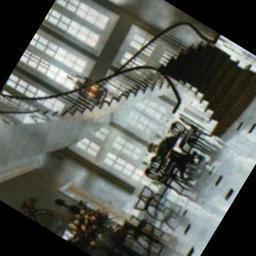Escaleras: (0, 60, 116, 223), (139, 18, 256, 141), (74, 35, 156, 121)
